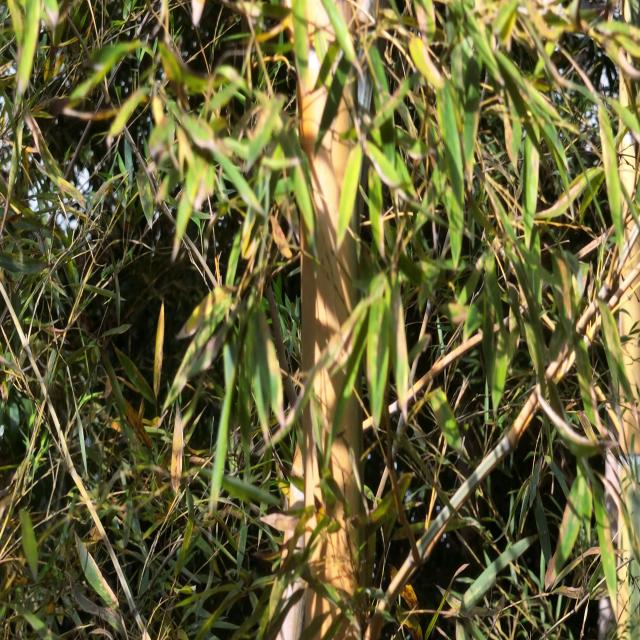Bamboo-shoots: (298, 0, 361, 640)
